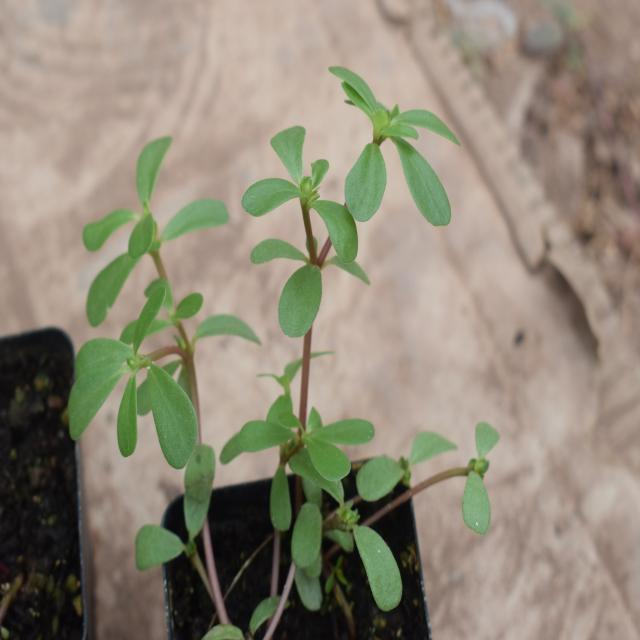purslane: (70, 68, 495, 566)
